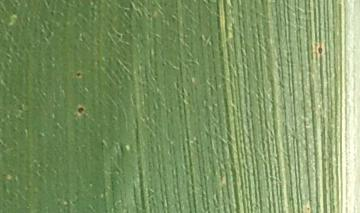tarspot: (317, 44, 323, 55), (77, 106, 85, 114), (75, 71, 81, 78)
